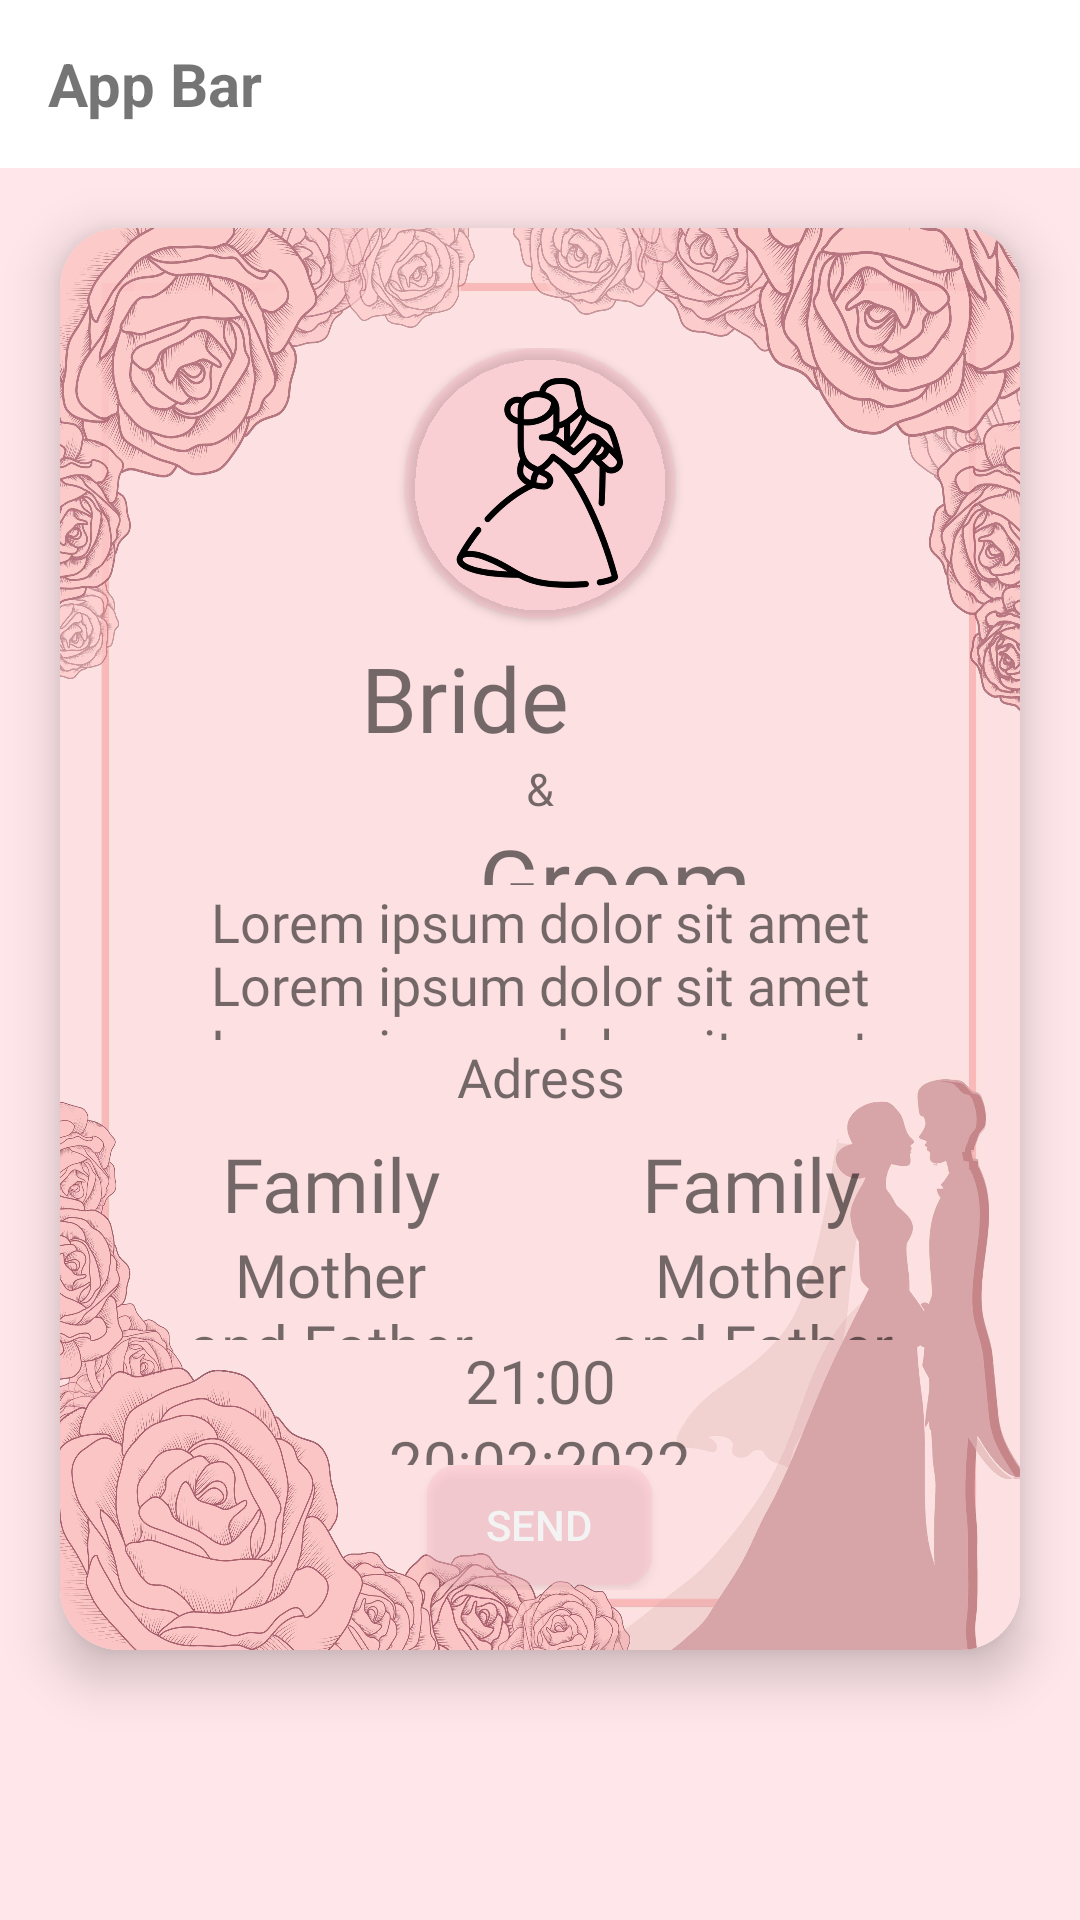

Where to tap for icons on this 1080x1920 app screen, as (x=x, y=y):
dance: (x=539, y=483)
